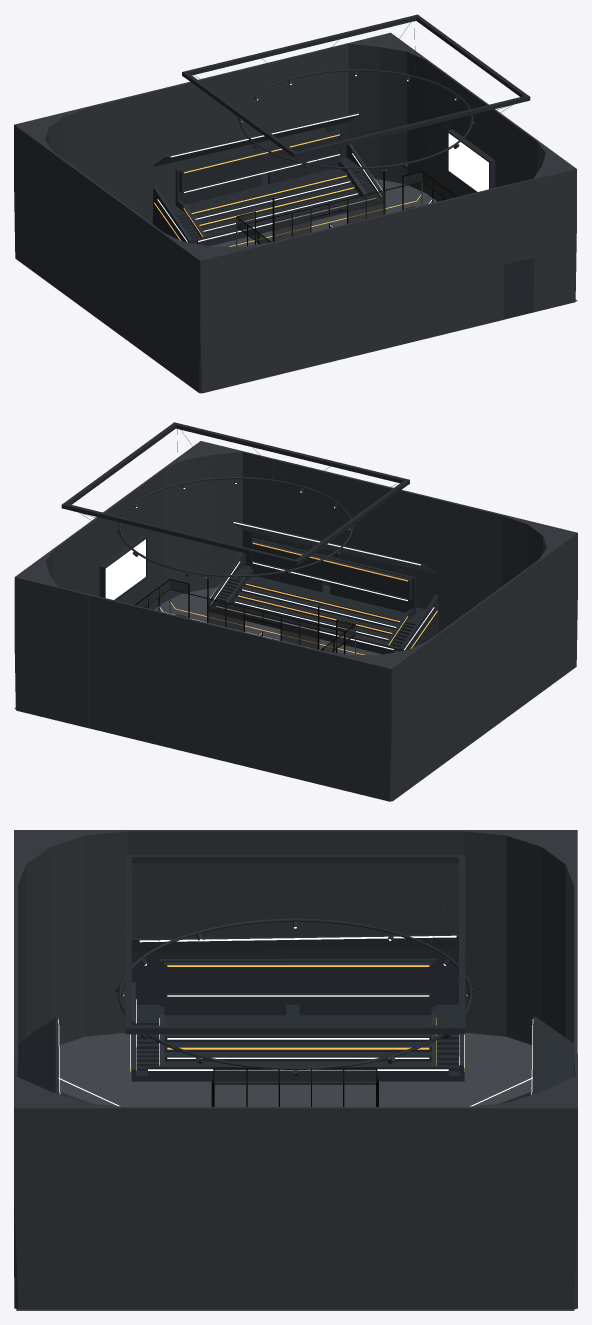
The model's file is TacPadelIndustrial.glb.
The picture shows the model from 3 angles, top to bottom: view 1: azimuth 30°, elevation 25°; view 2: azimuth 150°, elevation 25°; view 3: azimuth 270°, elevation 25°; orthographic projection. The views are drawn at different scales.
Visible parts, largest first — view 1: Würfel.005, Tribüne.005, Boden.002, Würfel.006, Stahlträger.011, Stahlträger.014, Stahlträger.015, Kreis.002, Gitter.011, Gitter.010; view 2: Würfel.005, Tribüne.005, Boden.002, Würfel.006, Stahlträger.011, Stahlträger.015, Stahlträger.014, Kreis.002, Gitter.010, Gitter.011; view 3: Würfel.005, Tribüne.004, Boden.002, Stahlträger.011, Tribüne.005, Kreis.002, Stahlträger.014, Stahlträger.015, Glas.018, Glas.017.
Boxes of the visible parts, box(x1,y1,x2,y2) form: Würfel.005: box(14, 32, 576, 393); Tribüne.005: box(152, 111, 534, 319); Boden.002: box(199, 179, 577, 393); Würfel.006: box(447, 129, 495, 192); Stahlträger.011: box(184, 15, 527, 155); Stahlträger.014: box(292, 95, 530, 157); Stahlträger.015: box(182, 14, 419, 76); Kreis.002: box(239, 69, 473, 169); Gitter.011: box(274, 191, 384, 241); Gitter.010: box(292, 195, 366, 236); Würfel.005: box(14, 441, 577, 801); Tribüne.005: box(208, 519, 438, 654); Boden.002: box(14, 587, 381, 709); Würfel.006: box(99, 535, 147, 600); Stahlträger.011: box(64, 424, 407, 563); Stahlträger.015: box(61, 503, 299, 565); Stahlträger.014: box(172, 422, 409, 484); Kreis.002: box(118, 477, 352, 576); Gitter.010: box(225, 603, 299, 645); Gitter.011: box(207, 599, 317, 649); Würfel.005: box(14, 830, 577, 1309); Tribüne.004: box(130, 934, 464, 1081); Boden.002: box(16, 1032, 574, 1310); Stahlträger.011: box(131, 854, 465, 1034); Tribüne.005: box(14, 1016, 573, 1276); Kreis.002: box(118, 918, 472, 1069); Stahlträger.014: box(125, 854, 131, 1034); Stahlträger.015: box(459, 856, 465, 1034); Glas.018: box(214, 1069, 375, 1084); Glas.017: box(247, 1069, 343, 1084).
Size of the model in its own units: 41.04 by 18.78 by 34.98.
11 materials, 1 textured.
